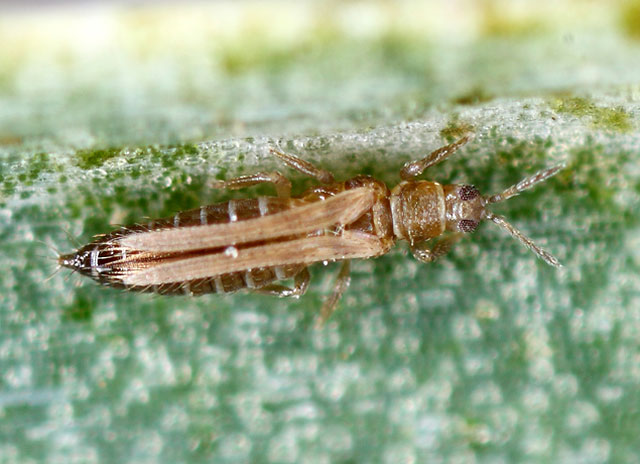Thrips: (30, 114, 590, 359)
